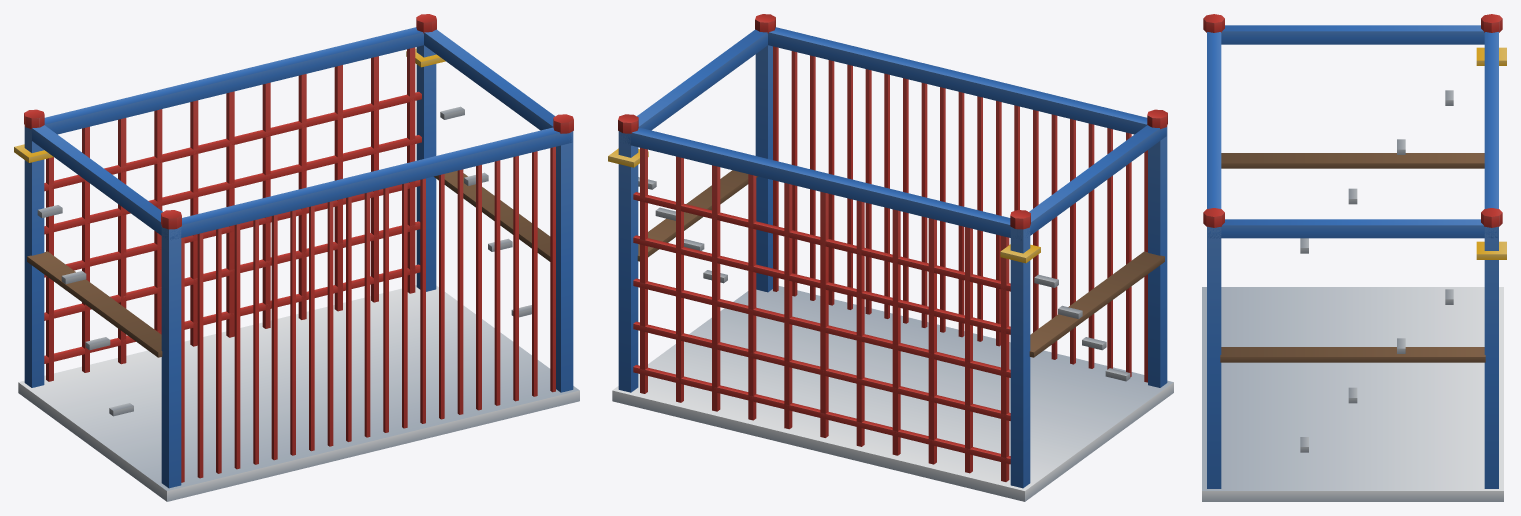
The model's file is ck_climbing_frame.fbx.
3 views of the same model, side by side, from view 1: azimuth 30°, elevation 25°; view 2: azimuth 150°, elevation 25°; view 3: azimuth 270°, elevation 25° (orthographic).
Visible parts, largest first — view 1: ck_climbing_frame; view 2: ck_climbing_frame; view 3: ck_climbing_frame.
Part boxes in pixels (<box>): ck_climbing_frame: <box>14,14,579,501</box>; ck_climbing_frame: <box>608,14,1173,501</box>; ck_climbing_frame: <box>1202,14,1506,501</box>.
Bounding box in the file's own units: 800 × 507 × 493.
